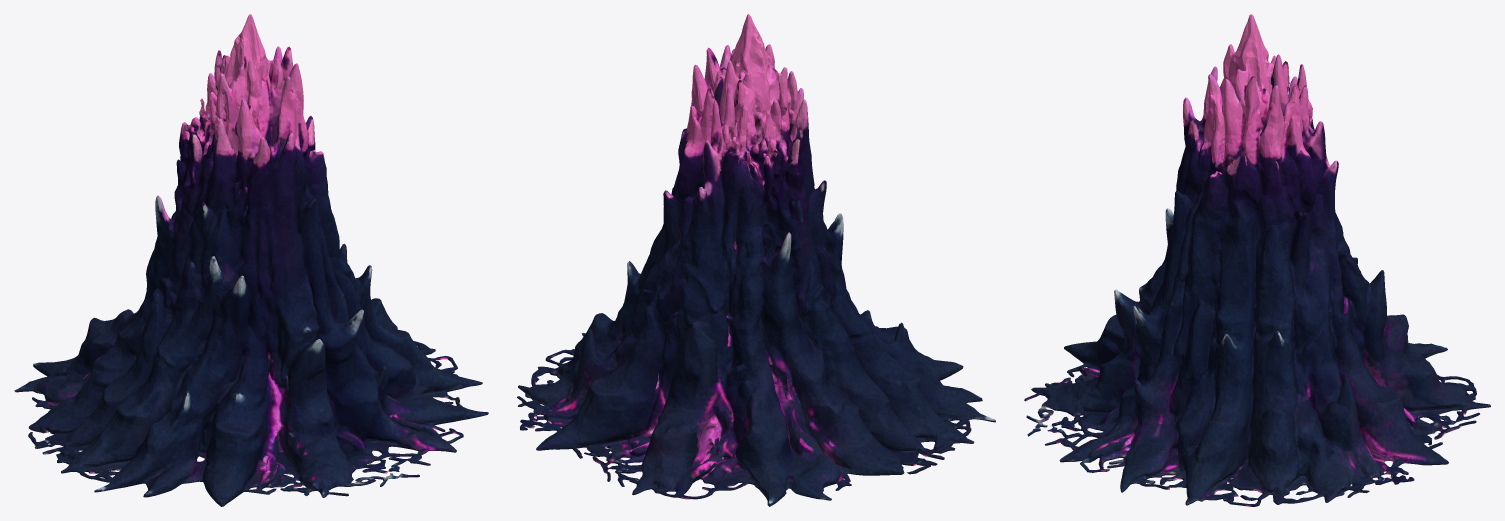
The model's file is root-mound-texture-wrap-2026-05-14T22-57-29-039Z.glb.
3 views of the same model, side by side, from view 1: azimuth 30°, elevation 25°; view 2: azimuth 150°, elevation 25°; view 3: azimuth 270°, elevation 25° (orthographic).
Parts seen in each view (by area): view 1: temp_mesh.ply; view 2: temp_mesh.ply; view 3: temp_mesh.ply.
Boxes of the visible parts, left/top/right/bottom form: temp_mesh.ply: left=14, top=14, right=488, bottom=506; temp_mesh.ply: left=517, top=14, right=995, bottom=506; temp_mesh.ply: left=1024, top=14, right=1490, bottom=506.
Bounding box in the file's own units: 1.97 × 1.82 × 1.94.
1 material, 1 textured.
